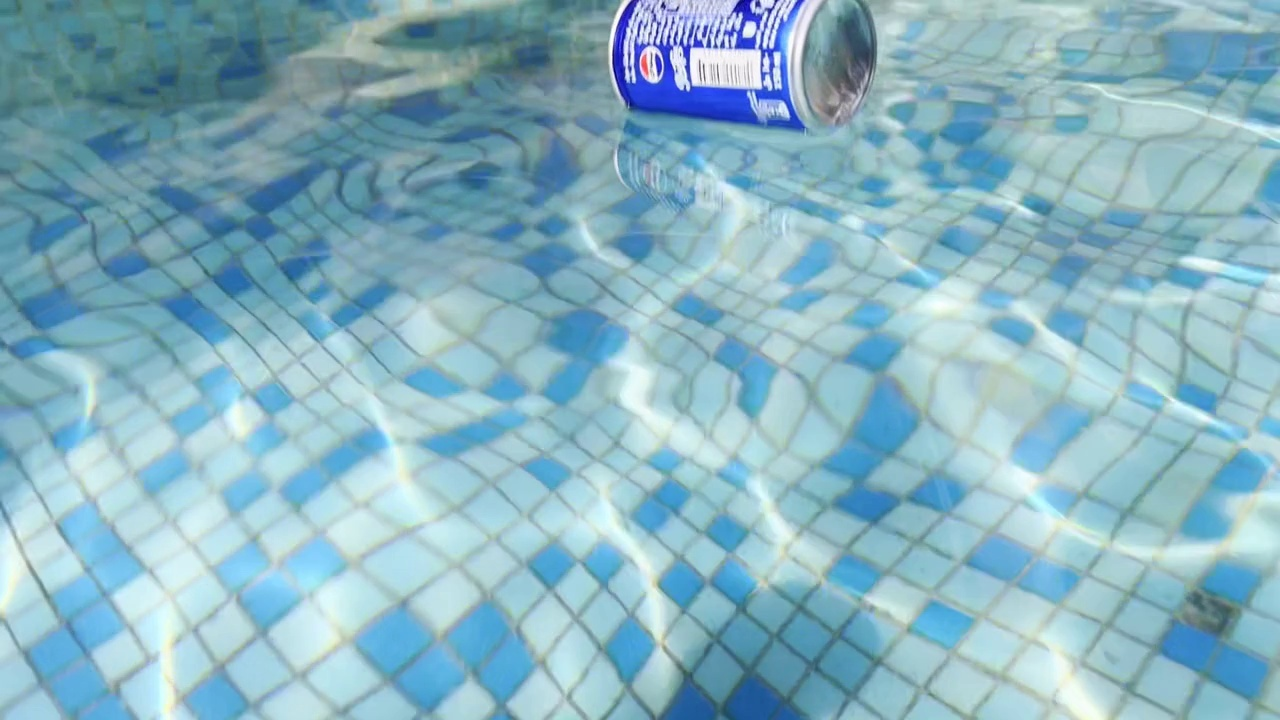debris: (609, 0, 880, 137)
